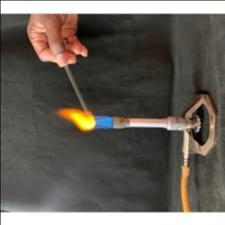controlled_fire: (51, 83, 138, 149)
